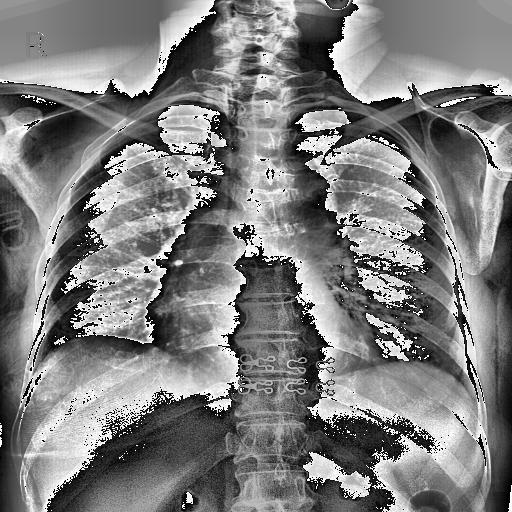0- Aortic enlargement: (184, 160, 337, 261), (246, 164, 338, 246), (274, 158, 338, 221)
3- Cardiomegaly: (146, 271, 385, 374), (143, 298, 383, 377), (140, 307, 383, 368)
